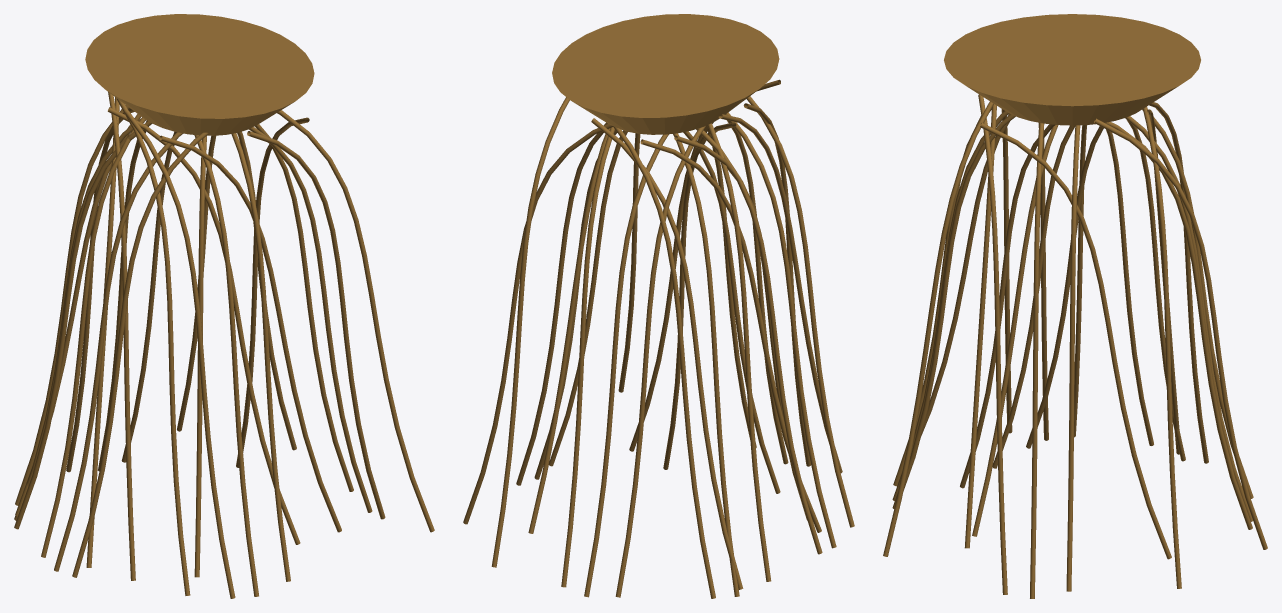
The model's file is Coren.fbx.
The picture shows the model from 3 angles, left to right: view 1: azimuth 30°, elevation 25°; view 2: azimuth 150°, elevation 25°; view 3: azimuth 270°, elevation 25°; orthographic projection.
Visible parts, largest first — view 1: Cylinder, BézierCurve.013, BézierCurve.018, BézierCurve.015, BézierCurve.012, BézierCurve.011, BézierCurve.005, BézierCurve.016, BézierCurve.020, BézierCurve.004, BézierCurve.014, BézierCurve.017 (+15 smaller); view 2: Cylinder, BézierCurve.024, BézierCurve, BézierCurve.007, BézierCurve.008, BézierCurve.010, BézierCurve.009, BézierCurve.022, BézierCurve.016, BézierCurve.023, BézierCurve.017, BézierCurve.015 (+15 smaller); view 3: Cylinder, BézierCurve.004, BézierCurve.006, BézierCurve, BézierCurve.003, BézierCurve.001, BézierCurve.002, BézierCurve.005, BézierCurve.014, BézierCurve.009, BézierCurve.011, BézierCurve.021 (+15 smaller).
Part boxes in pixels (x1,y1,x2,y2): Cylinder: [85, 14, 314, 135]; BézierCurve.013: [125, 110, 235, 598]; BézierCurve.018: [116, 98, 190, 595]; BézierCurve.015: [72, 132, 209, 577]; BézierCurve.012: [194, 135, 258, 596]; BézierCurve.011: [231, 133, 290, 581]; BézierCurve.005: [277, 110, 434, 532]; BézierCurve.016: [54, 132, 183, 571]; BézierCurve.020: [108, 92, 135, 580]; BézierCurve.004: [247, 131, 385, 519]; BézierCurve.014: [159, 135, 341, 532]; BézierCurve.017: [41, 117, 145, 557]; Cylinder: [552, 14, 779, 134]; BézierCurve.024: [613, 126, 715, 598]; BézierCurve: [491, 97, 569, 567]; BézierCurve.007: [615, 126, 705, 597]; BézierCurve.008: [584, 134, 668, 597]; BézierCurve.010: [591, 118, 743, 589]; BézierCurve.009: [561, 127, 614, 587]; BézierCurve.022: [707, 123, 771, 581]; BézierCurve.016: [725, 112, 836, 548]; BézierCurve.023: [673, 133, 739, 596]; BézierCurve.017: [696, 128, 822, 554]; BézierCurve.015: [746, 96, 854, 527]; Cylinder: [944, 14, 1200, 125]; BézierCurve.004: [978, 94, 1007, 594]; BézierCurve.006: [979, 122, 1171, 559]; BézierCurve: [1094, 118, 1267, 549]; BézierCurve.003: [1030, 123, 1044, 598]; BézierCurve.001: [1143, 106, 1181, 588]; BézierCurve.002: [1066, 125, 1080, 591]; BézierCurve.005: [883, 101, 993, 556]; BézierCurve.014: [964, 104, 996, 548]; BézierCurve.009: [1105, 122, 1252, 529]; BézierCurve.011: [892, 114, 1015, 508]; BézierCurve.021: [972, 125, 1058, 536].
Size of the model in its own units: 143 by 205 by 153.
